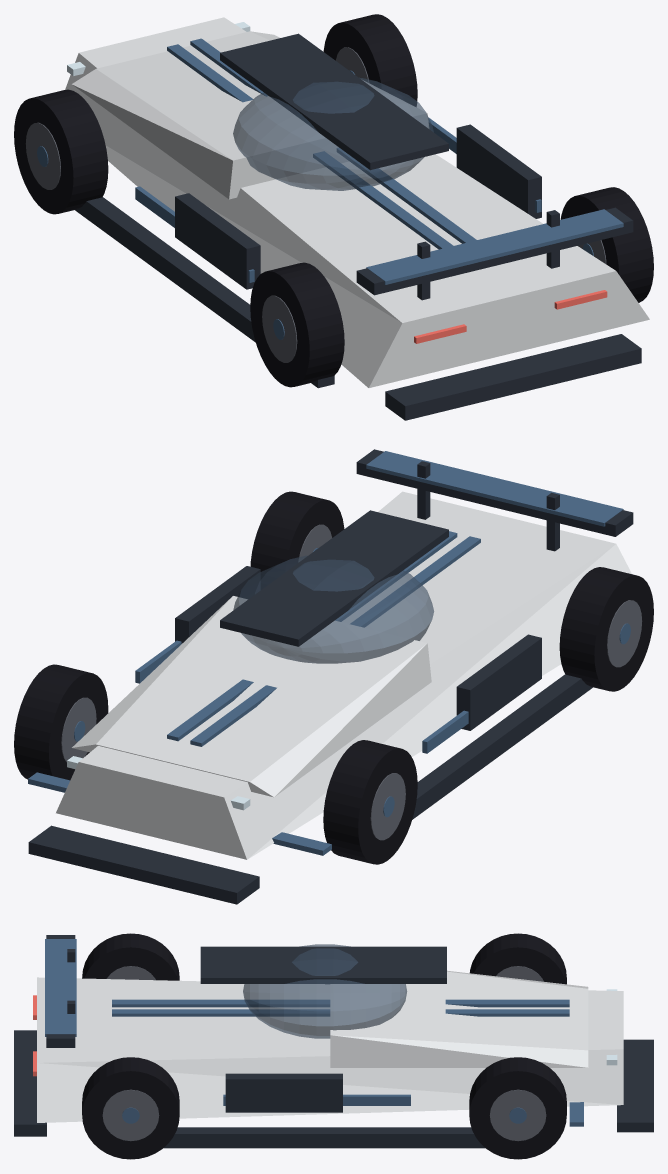
Rendered from silver_bullet.glb.
3 views of the same model, one above another, from view 1: azimuth 30°, elevation 25°; view 2: azimuth 150°, elevation 25°; view 3: azimuth 270°, elevation 25° (orthographic). The views are drawn at different scales.
Parts seen in each view (by area): view 1: body_chassis, hood_slope, carbon_roof_spine, dark_cockpit_canopy, rear_diffuser, left_rear_tire, left_front_tire, left_side_skirt, rear_spoiler_accent, right_front_tire, left_side_intake, right_rear_tire (+8 smaller); view 2: body_chassis, hood_slope, carbon_roof_spine, dark_cockpit_canopy, left_front_tire, left_rear_tire, front_splitter, right_front_tire, left_side_skirt, rear_spoiler_accent, right_rear_tire, left_side_intake (+10 smaller); view 3: body_chassis, hood_slope, carbon_roof_spine, dark_cockpit_canopy, right_side_skirt, right_front_tire, right_rear_tire, right_side_intake, left_rear_tire, left_front_tire, front_splitter, rear_spoiler_accent (+10 smaller).
Part boxes in pixels (bbox=[...]): body_chassis: bbox=[65, 17, 649, 387]; hood_slope: bbox=[72, 31, 428, 199]; carbon_roof_spine: bbox=[220, 33, 448, 170]; dark_cockpit_canopy: bbox=[233, 77, 433, 190]; rear_diffuser: bbox=[385, 334, 641, 420]; left_rear_tire: bbox=[250, 262, 344, 387]; left_front_tire: bbox=[14, 89, 108, 214]; left_side_skirt: bbox=[75, 197, 334, 388]; rear_spoiler_accent: bbox=[366, 209, 623, 284]; right_front_tire: bbox=[323, 14, 417, 106]; left_side_intake: bbox=[175, 193, 260, 289]; right_rear_tire: bbox=[560, 187, 653, 302]; body_chassis: bbox=[56, 491, 631, 859]; hood_slope: bbox=[72, 596, 431, 797]; carbon_roof_spine: bbox=[220, 510, 448, 646]; dark_cockpit_canopy: bbox=[233, 555, 433, 663]; left_front_tire: bbox=[323, 740, 417, 864]; left_rear_tire: bbox=[559, 567, 653, 691]; front_splitter: bbox=[28, 825, 259, 904]; right_front_tire: bbox=[14, 664, 108, 780]; left_side_skirt: bbox=[412, 674, 592, 819]; rear_spoiler_accent: bbox=[366, 451, 623, 526]; right_rear_tire: bbox=[250, 491, 344, 589]; left_side_intake: bbox=[456, 634, 541, 730]; body_chassis: bbox=[37, 977, 623, 1122]; hood_slope: bbox=[330, 970, 588, 1067]; carbon_roof_spine: bbox=[200, 946, 446, 983]; dark_cockpit_canopy: bbox=[243, 944, 406, 1038]; right_side_skirt: bbox=[163, 1127, 485, 1148]; right_front_tire: bbox=[469, 1057, 566, 1159]; right_rear_tire: bbox=[82, 1057, 179, 1159]; right_side_intake: bbox=[225, 1073, 342, 1112]; left_rear_tire: bbox=[82, 933, 179, 980]; left_front_tire: bbox=[469, 933, 566, 984]; front_splitter: bbox=[617, 1039, 653, 1132]; rear_spoiler_accent: bbox=[45, 939, 76, 1036].
Size of the model in its own units: 2.49 by 1.1 by 4.86.
